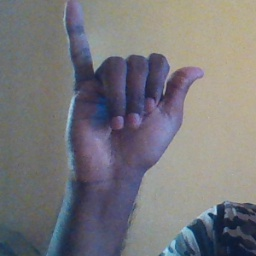J: (51, 1, 206, 177)
